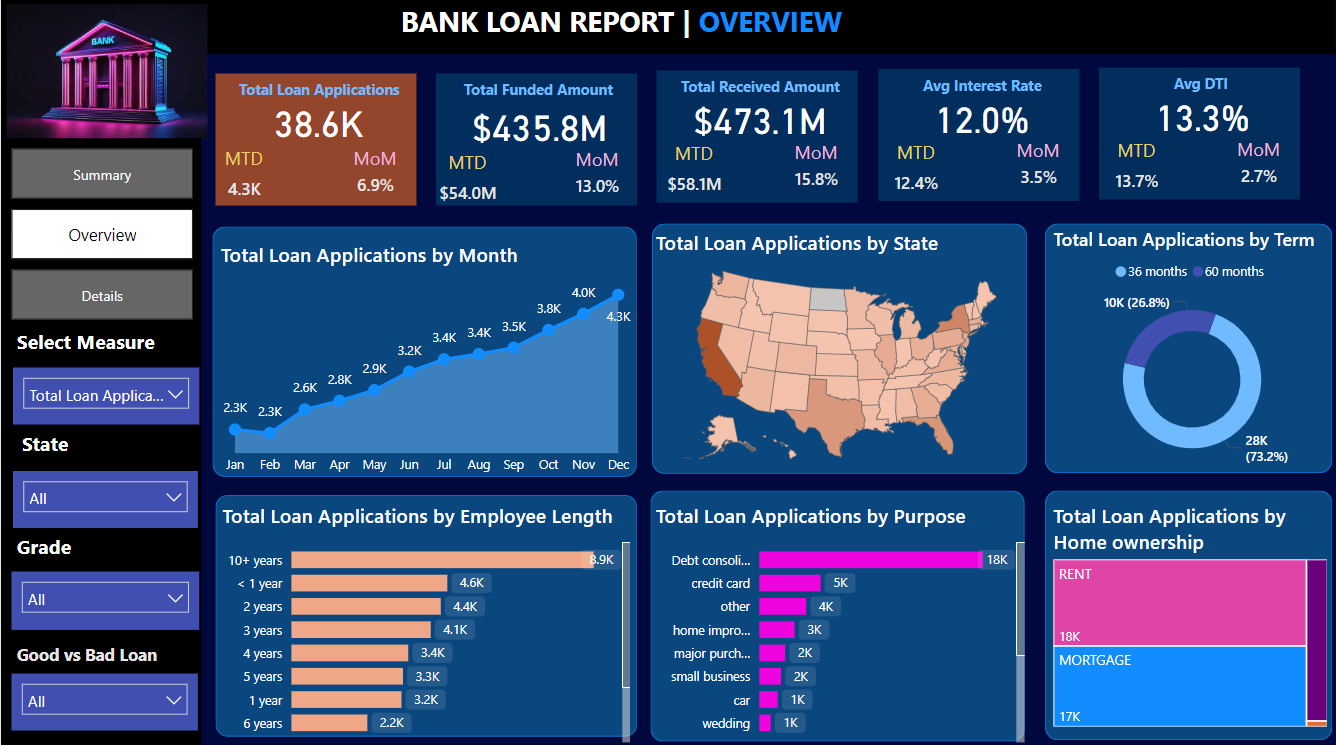

What the dashboard file says about the page in this screenshot:
{"tool":"powerbi","page":{"name":"Overview","canvas":[1280,720],"ordinal":1},"visuals":[{"type":"shape","box":[0,53,192.3,666.3],"z":0},{"type":"shape","box":[0,0,1279.5,54.5],"z":1000},{"type":"textbox","box":[378,0,455.4,51],"z":2000},{"type":"shape","box":[1053.1,68.1,192.8,126.6],"z":3000,"group":"g5"},{"type":"shape","box":[841.3,69.7,192.8,126.6],"z":3000,"group":"g4"},{"type":"shape","box":[629.4,71.2,192.8,126.6],"z":3000,"group":"g3"},{"type":"shape","box":[416.3,72.7,192.8,126.6],"z":3000,"group":"g2"},{"type":"group","id":"g1","title":"Group 1","box":[179.5,73.7,249.5,130.7],"z":3000},{"type":"shape","box":[206,73.7,192.8,126.6],"z":3000,"group":"g1"},{"type":"group","id":"g2","title":"Group 1","box":[391,72.7,249.8,136.3],"z":4000},{"type":"textbox","box":[1041.7,68.1,219.2,39.7],"z":5000,"group":"g5"},{"type":"textbox","box":[829.9,69.7,219.2,39.7],"z":5000,"group":"g4"},{"type":"group","id":"g3","title":"Group 1","box":[602.9,71.2,249.8,130.2],"z":5000},{"type":"textbox","box":[618,71.2,219.2,39.7],"z":5000,"group":"g3"},{"type":"textbox","box":[405,72.7,219.2,39.7],"z":5000,"group":"g2"},{"type":"textbox","box":[194.6,73.7,219.2,39.7],"z":5000,"group":"g1"},{"type":"group","id":"g4","title":"Group 1","box":[814.8,69.7,249.8,130.2],"z":6000},{"type":"card","title":"MTD","fields":{"Values":["Bank_loan_data.MTD Avg DTI"]},"box":[1048.3,135.9,80.3,62.1],"z":6000,"group":"g5"},{"type":"card","title":"MTD","fields":{"Values":["Bank_loan_data.MTD Avg Interest Rate"]},"box":[836.5,137.5,80.3,62.1],"z":6000,"group":"g4"},{"type":"card","title":"MTD","fields":{"Values":["Bank_loan_data.MTD Total AMount Received"]},"box":[624.6,139,80.3,62.1],"z":6000,"group":"g3"},{"type":"card","title":"MTD","fields":{"Values":["Bank_loan_data.MTD Loan Applications"]},"box":[192.3,142.3,80.3,62.1],"z":6000,"group":"g1"},{"type":"card","title":"MTD","fields":{"Values":["Bank_loan_data.MTD Funded Amount"]},"box":[407.1,146.6,80.3,62.1],"z":6000,"group":"g2"},{"type":"group","id":"g5","title":"Group 1","box":[1026.6,68.1,249.8,130.2],"z":7000},{"type":"card","title":"MoM","fields":{"Values":["Bank_loan_data.MoM Avg DTI"]},"box":[1166.4,134.4,78.7,54.5],"z":7000,"group":"g5"},{"type":"card","title":"MoM","fields":{"Values":["Bank_loan_data.MoM Avg Interest Rate"]},"box":[954.6,136,78.7,54.5],"z":7000,"group":"g4"},{"type":"card","title":"MoM","fields":{"Values":["Bank_loan_data.MoM Total Amount Received"]},"box":[742.7,137.5,78.7,54.5],"z":7000,"group":"g3"},{"type":"card","title":"MoM","fields":{"Values":["Bank_loan_data.MoM Loan Applications"]},"box":[319.5,142.3,78.7,54.5],"z":7000,"group":"g1"},{"type":"card","title":"MoM","fields":{"Values":["Bank_loan_data.MoM Total FUnded Amount"]},"box":[531.2,143.6,78.7,54.5],"z":7000,"group":"g2"},{"type":"shape","box":[1000.9,216.5,275.6,239.2],"z":7000,"group":"g8"},{"type":"shape","box":[624.1,217.2,359.5,240.2],"z":7000,"group":"g7"},{"type":"shape","box":[202.8,220,407,240.2],"z":7000,"group":"g6"},{"type":"shape","box":[622.3,472.4,358.9,240.8],"z":7000,"group":"g10"},{"type":"shape","box":[205.9,477,404.3,231.7],"z":7000,"group":"g9"},{"type":"shape","box":[1000.9,472.4,275.6,239.2],"z":8000},{"type":"group","id":"g6","title":"Group 2","box":[202.8,220,407,240.2],"z":9000},{"type":"textbox","box":[9.7,410.3,122.7,43.9],"z":10000},{"type":"card","fields":{"Values":["Bank_loan_data.Avg DTI"]},"box":[1026.6,88.9,249.5,51],"z":11000,"group":"g5"},{"type":"card","fields":{"Values":["Bank_loan_data.Average Interest rate"]},"box":[814.8,90.5,249.5,51],"z":11000,"group":"g4"},{"type":"card","fields":{"Values":["Bank_loan_data.Total AMount Received"]},"box":[602.9,92,249.5,51],"z":11000,"group":"g3"},{"type":"card","fields":{"Values":["Bank_loan_data.Total Loan Applications"]},"box":[179.5,94.5,249.5,51],"z":11000,"group":"g1"},{"type":"card","fields":{"Values":["Bank_loan_data.Total Funded Amount"]},"box":[391,96.6,249.8,50],"z":11000,"group":"g2"},{"type":"slicer","fields":{"Values":["Bank_loan_data.address_state"]},"box":[11.2,454.3,177.2,54.5],"z":11000},{"type":"textbox","box":[9.7,311.9,166.6,43.9],"z":12000},{"type":"slicer","fields":{"Values":["Bank_loan_data.grade"]},"box":[9.7,551.2,180.2,56],"z":13000},{"type":"slicer","fields":{"Values":["Bank_loan_data.Good vs Bad Loan"]},"box":[9.7,648.1,178.7,54.5],"z":14000},{"type":"textbox","box":[9.7,508.8,166.6,42.4],"z":15000},{"type":"textbox","box":[9.7,614.8,166.6,43.9],"z":16000},{"type":"areaChart","fields":{"Y":["Bank_loan_data.Total Loan Applications"],"Category":["Date table.Month"]},"box":[205.7,234.4,404.1,231.5],"z":17000},{"type":"slicer","fields":{"Values":["Select Measure.Select Measure"]},"box":[11.2,355.8,178.7,54.5],"z":18000},{"type":"group","id":"g7","title":"Group 2","box":[624.1,217.2,359.5,240.2],"z":19000},{"type":"shapeMap","fields":{"Value":["Bank_loan_data.Total Loan Applications"],"Category":["Bank_loan_data.address_state"]},"box":[622.3,222.6,363.4,234.7],"z":20000},{"type":"group","id":"g8","title":"Group 2","box":[1000.9,216.5,275.6,239.2],"z":21000},{"type":"donutChart","fields":{"Y":["Bank_loan_data.Total Loan Applications"],"Category":["Bank_loan_data.term"]},"box":[1003.9,219.6,275.6,240.8],"z":22000},{"type":"group","id":"g9","title":"Group 2","box":[205.9,477,404.3,231.7],"z":23000},{"type":"barChart","fields":{"Y":["Bank_loan_data.Total Loan Applications"],"Category":["Bank_loan_data.emp_length"]},"box":[207.4,484.5,401.3,234.7],"z":24000},{"type":"group","id":"g10","title":"Group 2","box":[622.3,472.4,358.9,240.8],"z":25000},{"type":"barChart","fields":{"Y":["Bank_loan_data.Total Loan Applications"],"Category":["Bank_loan_data.purpose"]},"box":[622.3,484.5,363.4,234.7],"z":26000},{"type":"treemap","fields":{"Values":["Bank_loan_data.Total Loan Applications"],"Group":["Bank_loan_data.home_ownership"]},"box":[1003.9,484.5,272.6,219.6],"z":27000},{"type":"pageNavigator","box":[10.6,145.4,174.1,165],"z":28000},{"type":"image","box":[0,0,202.9,142.3],"z":29000}]}

Visuals, with their boxes in screenshot pixels (x1, y1, x2, y2), scaled from the page's 1280x720 canvas onto the 1336x745 screenshot:
shape: 0,55,201,744
shape: 0,0,1335,56
textbox: 395,0,870,53
shape: 1099,70,1300,201
shape: 878,72,1079,203
shape: 657,74,858,205
shape: 435,75,636,206
"Group 1" group: 187,76,448,211
shape: 215,76,416,207
"Group 1" group: 408,75,669,216
textbox: 1087,70,1316,112
textbox: 866,72,1095,113
"Group 1" group: 629,74,890,208
textbox: 645,74,874,115
textbox: 423,75,652,116
textbox: 203,76,432,117
"Group 1" group: 850,72,1111,207
"MTD" card: 1094,141,1178,205
"MTD" card: 873,142,957,207
"MTD" card: 652,144,736,208
"MTD" card: 201,147,285,211
"MTD" card: 425,152,509,216
"Group 1" group: 1072,70,1332,205
"MoM" card: 1217,139,1300,195
"MoM" card: 996,141,1079,197
"MoM" card: 775,142,857,199
"MoM" card: 333,147,416,204
"MoM" card: 554,149,637,205
shape: 1045,224,1332,472
shape: 651,225,1027,473
shape: 212,228,636,476
shape: 650,489,1024,738
shape: 215,494,637,733
shape: 1045,489,1332,736
"Group 2" group: 212,228,636,476
textbox: 10,425,138,470
card - Bank_loan_data.Avg DTI: 1072,92,1332,145
card - Bank_loan_data.Average Interest rate: 850,94,1111,146
card - Bank_loan_data.Total AMount Received: 629,95,890,148
card - Bank_loan_data.Total Loan Applications: 187,98,448,151
card - Bank_loan_data.Total Funded Amount: 408,100,669,152
slicer - Bank_loan_data.address_state: 12,470,197,526
textbox: 10,323,184,368
slicer - Bank_loan_data.grade: 10,570,198,628
slicer - Bank_loan_data.Good vs Bad Loan: 10,671,197,727
textbox: 10,526,184,570
textbox: 10,636,184,682
areaChart - Bank_loan_data.Total Loan Applications x Date table.Month: 215,243,636,482
slicer - Select Measure.Select Measure: 12,368,198,425
"Group 2" group: 651,225,1027,473
shapeMap - Bank_loan_data.Total Loan Applications x Bank_loan_data.address_state: 650,230,1029,473
"Group 2" group: 1045,224,1332,472
donutChart - Bank_loan_data.Total Loan Applications x Bank_loan_data.term: 1048,227,1335,476
"Group 2" group: 215,494,637,733
barChart - Bank_loan_data.Total Loan Applications x Bank_loan_data.emp_length: 216,501,635,744
"Group 2" group: 650,489,1024,738
barChart - Bank_loan_data.Total Loan Applications x Bank_loan_data.purpose: 650,501,1029,744
treemap - Bank_loan_data.Total Loan Applications x Bank_loan_data.home_ownership: 1048,501,1332,729
pageNavigator: 11,150,193,321
image: 0,0,212,147
